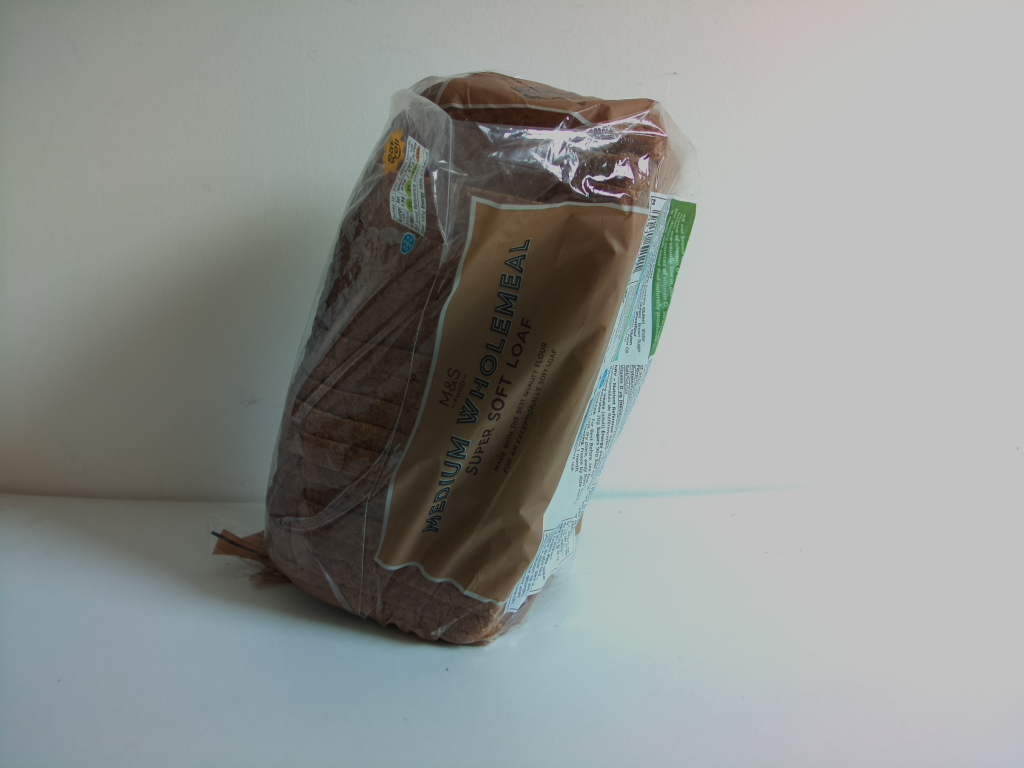bread: (210, 66, 705, 649)
